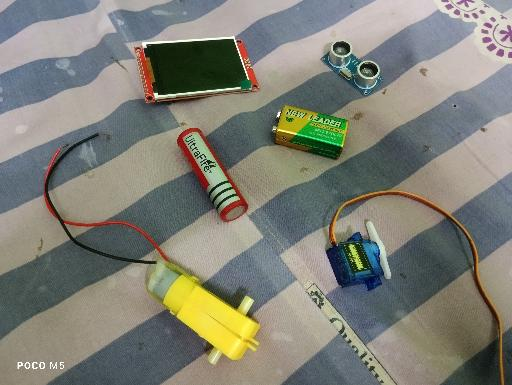Battery: (177, 127, 248, 223), (271, 105, 349, 161)
Display: (133, 36, 260, 103)
Motor: (147, 260, 261, 366), (325, 221, 392, 292)
sensor: (320, 40, 384, 97)
